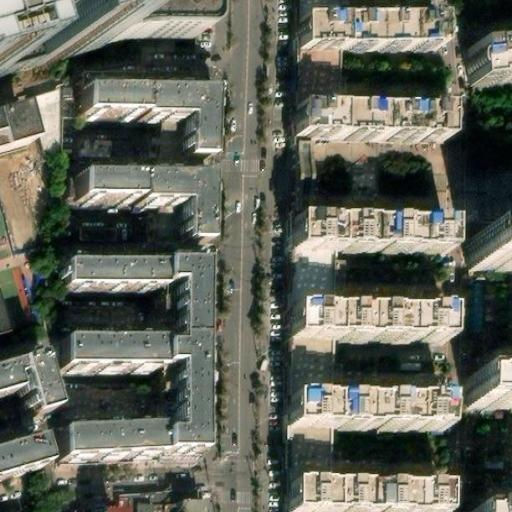building: (59, 266, 200, 461), (76, 103, 202, 175), (76, 189, 202, 258), (10, 36, 112, 109), (291, 111, 445, 145), (293, 21, 438, 57), (283, 228, 439, 260), (280, 405, 435, 435), (281, 317, 437, 346), (279, 492, 435, 512), (7, 357, 49, 424), (281, 259, 324, 317), (280, 346, 322, 405), (279, 435, 321, 492), (291, 56, 333, 111), (0, 263, 32, 331), (466, 42, 512, 85), (461, 368, 512, 403), (0, 130, 32, 174), (467, 235, 512, 266), (76, 221, 121, 245), (171, 495, 196, 512), (133, 501, 150, 512)
